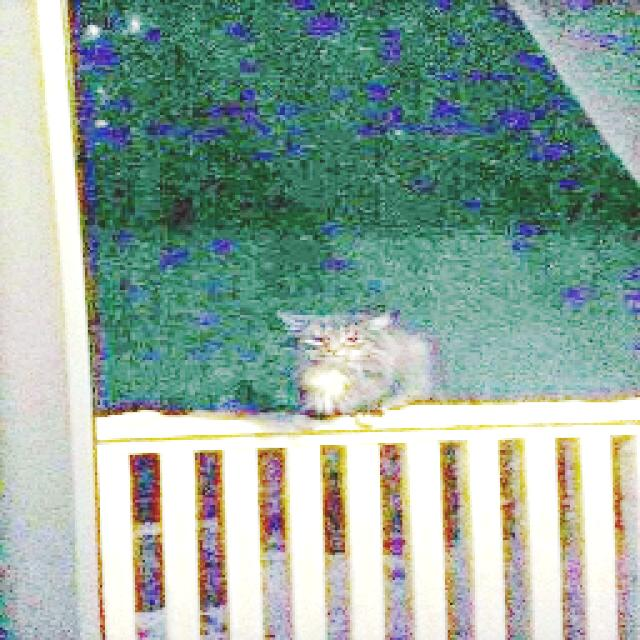cat: (240, 276, 446, 438)
